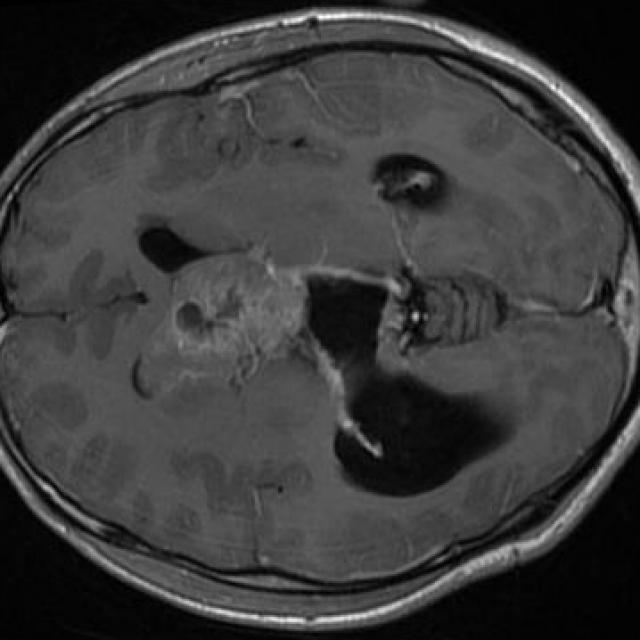glioma: (137, 246, 305, 396)
